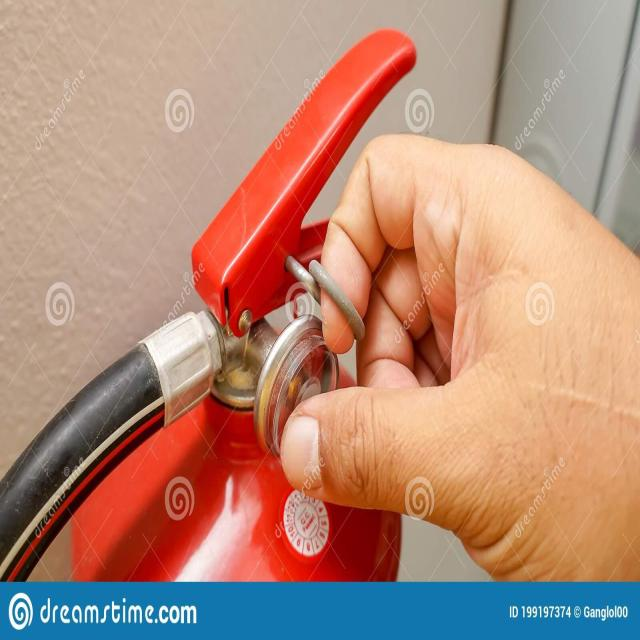fire_extinguisher: (0, 18, 449, 581)
